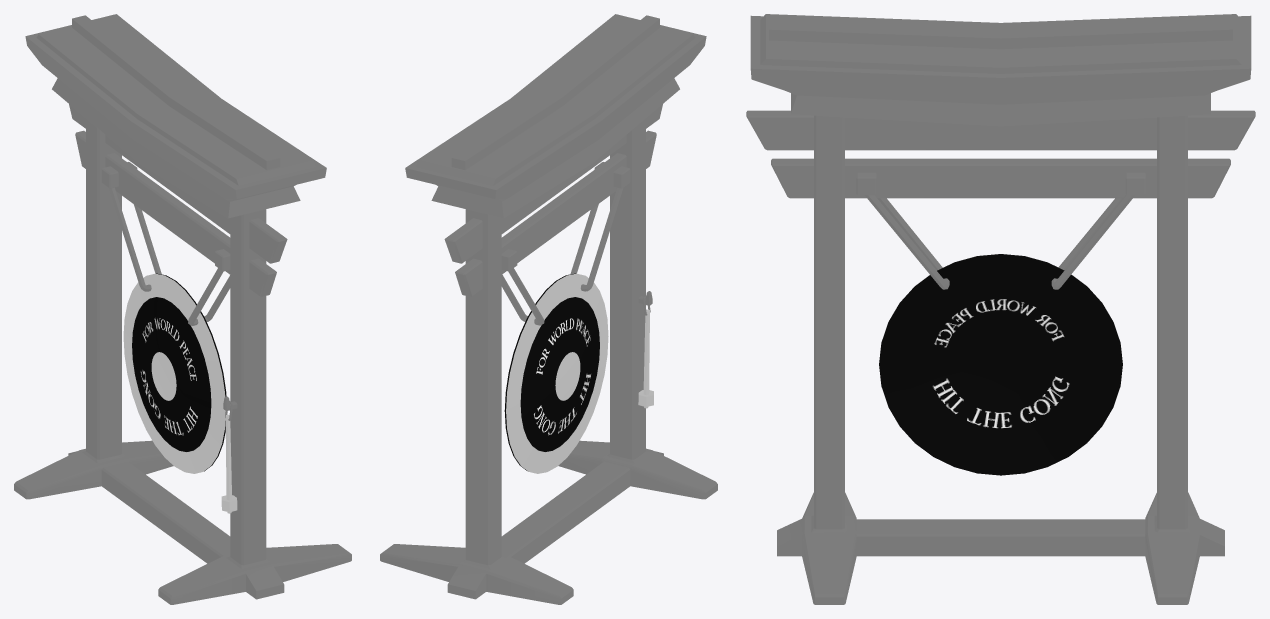
The model's file is gong.glb.
3 renders of one model, left to right at view 1: azimuth 30°, elevation 25°; view 2: azimuth 150°, elevation 25°; view 3: azimuth 270°, elevation 25°, orthographic. The views are drawn at different scales.
Visible parts, largest first — view 1: Ständer, Gong, Ständer.002, Ständer.003, Cylinder; view 2: Ständer, Gong, Ständer.003, Ständer.002, Cylinder; view 3: Ständer, Gong, Ständer.003, Ständer.002.
Part boxes in pixels (x1,y1,x2,y2): Ständer: (14,14,351,604); Gong: (123,273,226,473); Ständer.002: (108,187,161,291); Ständer.003: (188,268,230,325); Cylinder: (221,414,237,513); Ständer: (380,14,717,604); Gong: (504,273,608,473); Ständer.003: (570,187,623,291); Ständer.002: (501,268,544,325); Cylinder: (638,309,653,408); Ständer: (746,14,1255,604); Gong: (879,254,1122,475); Ständer.003: (865,195,949,289); Ständer.002: (1051,195,1134,289).
Bounding box in the file's own units: 1.3 × 3 × 2.65.
8 materials, 1 textured.
